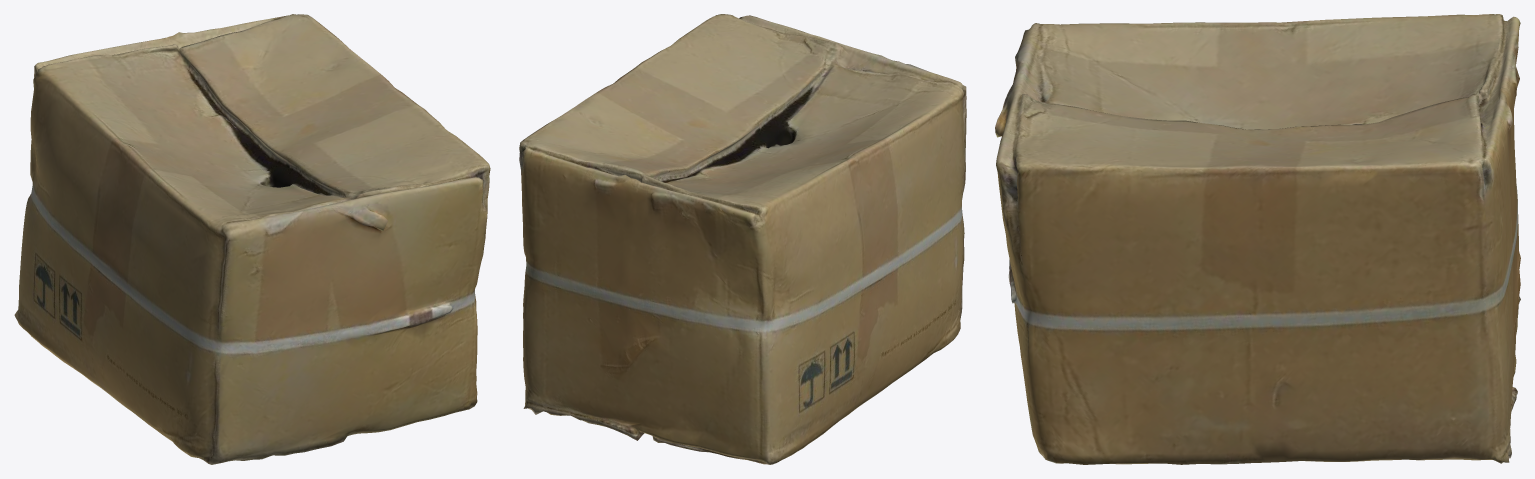
Rendered from cardboard_box_01.glb.
3 views of the same model, side by side, from view 1: azimuth 30°, elevation 25°; view 2: azimuth 150°, elevation 25°; view 3: azimuth 270°, elevation 25° (orthographic). The views are drawn at different scales.
Parts seen in each view (by area): view 1: cardboard_box_01; view 2: cardboard_box_01; view 3: cardboard_box_01.
Boxes of the visible parts, bbox=[...] form: cardboard_box_01: bbox=[14, 14, 490, 464]; cardboard_box_01: bbox=[519, 14, 966, 464]; cardboard_box_01: bbox=[995, 14, 1520, 464].
Size of the model in its own units: 0.387 by 0.3418 by 0.5159.
Materials: 1 (1 with a texture image).
